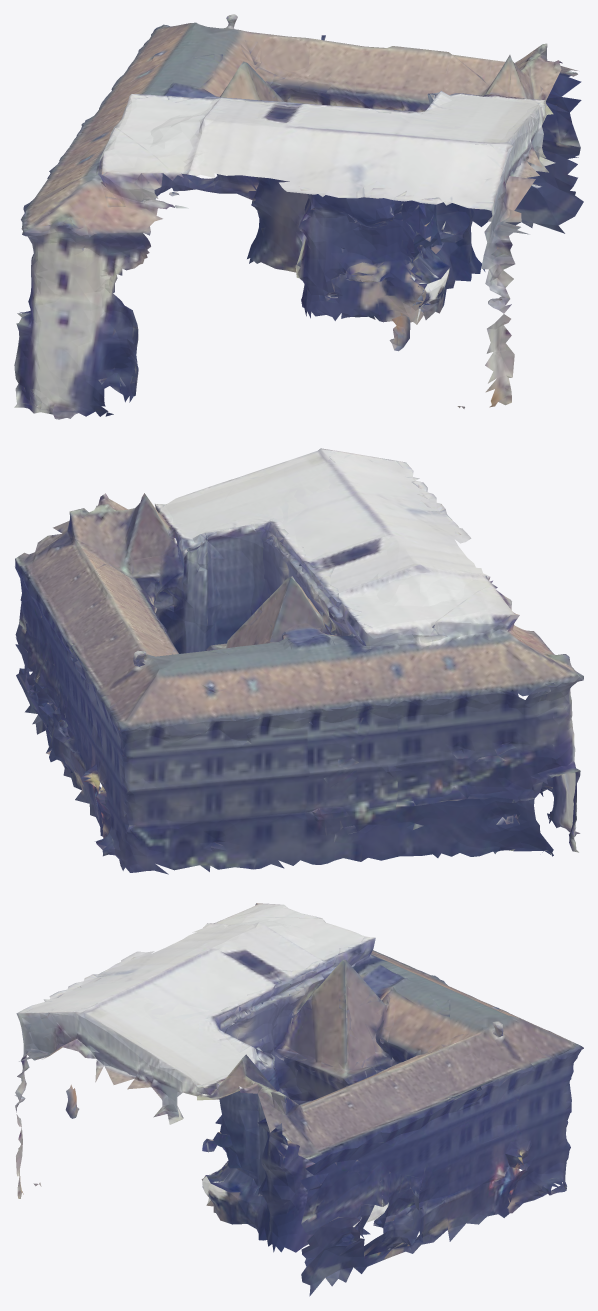
File: hotel-de-ville.glb
3 views of the same model, one above another, from view 1: azimuth 30°, elevation 25°; view 2: azimuth 150°, elevation 25°; view 3: azimuth 270°, elevation 25° (orthographic). The views are drawn at different scales.
Bounding box in the file's own units: 59.83 × 25.27 × 56.91.
2 materials, 2 textured.
